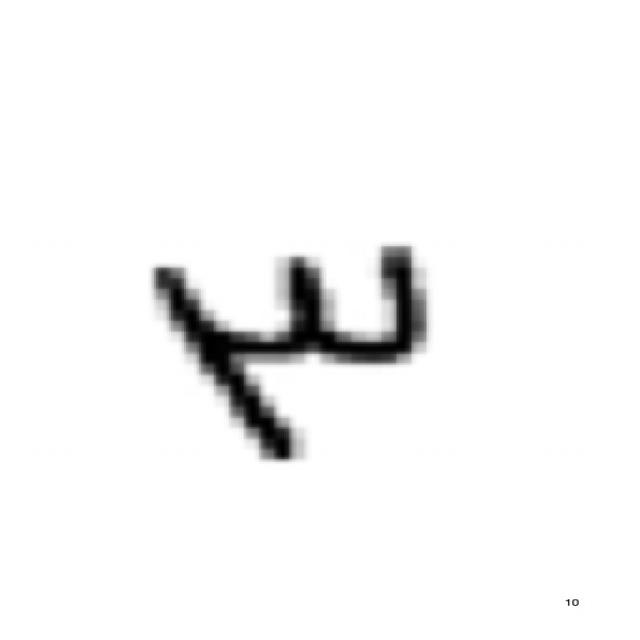3 -three-: (129, 234, 443, 471)
